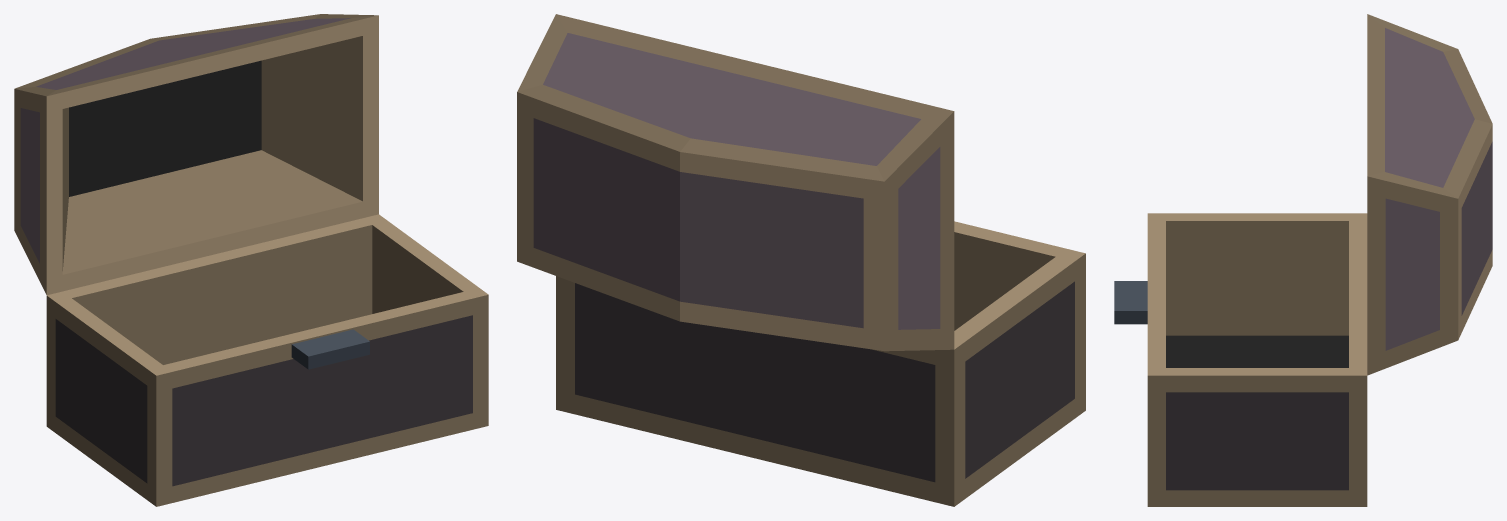
File: TB_D_Prop_ChestB_Open_C.FBX
3 views of the same model, side by side, from view 1: azimuth 30°, elevation 25°; view 2: azimuth 150°, elevation 25°; view 3: azimuth 270°, elevation 25° (orthographic). The views are drawn at different scales.
Visible parts, largest first — view 1: TB_D_Prop_ChestB_Open_C; view 2: TB_D_Prop_ChestB_Open_C; view 3: TB_D_Prop_ChestB_Open_C.
Part boxes in pixels (left/top/right/bottom): TB_D_Prop_ChestB_Open_C: left=14, top=14, right=488, bottom=506; TB_D_Prop_ChestB_Open_C: left=517, top=14, right=1085, bottom=506; TB_D_Prop_ChestB_Open_C: left=1114, top=14, right=1492, bottom=506.
Size of the model in its own units: 1.05 by 0.9932 by 1.03.
